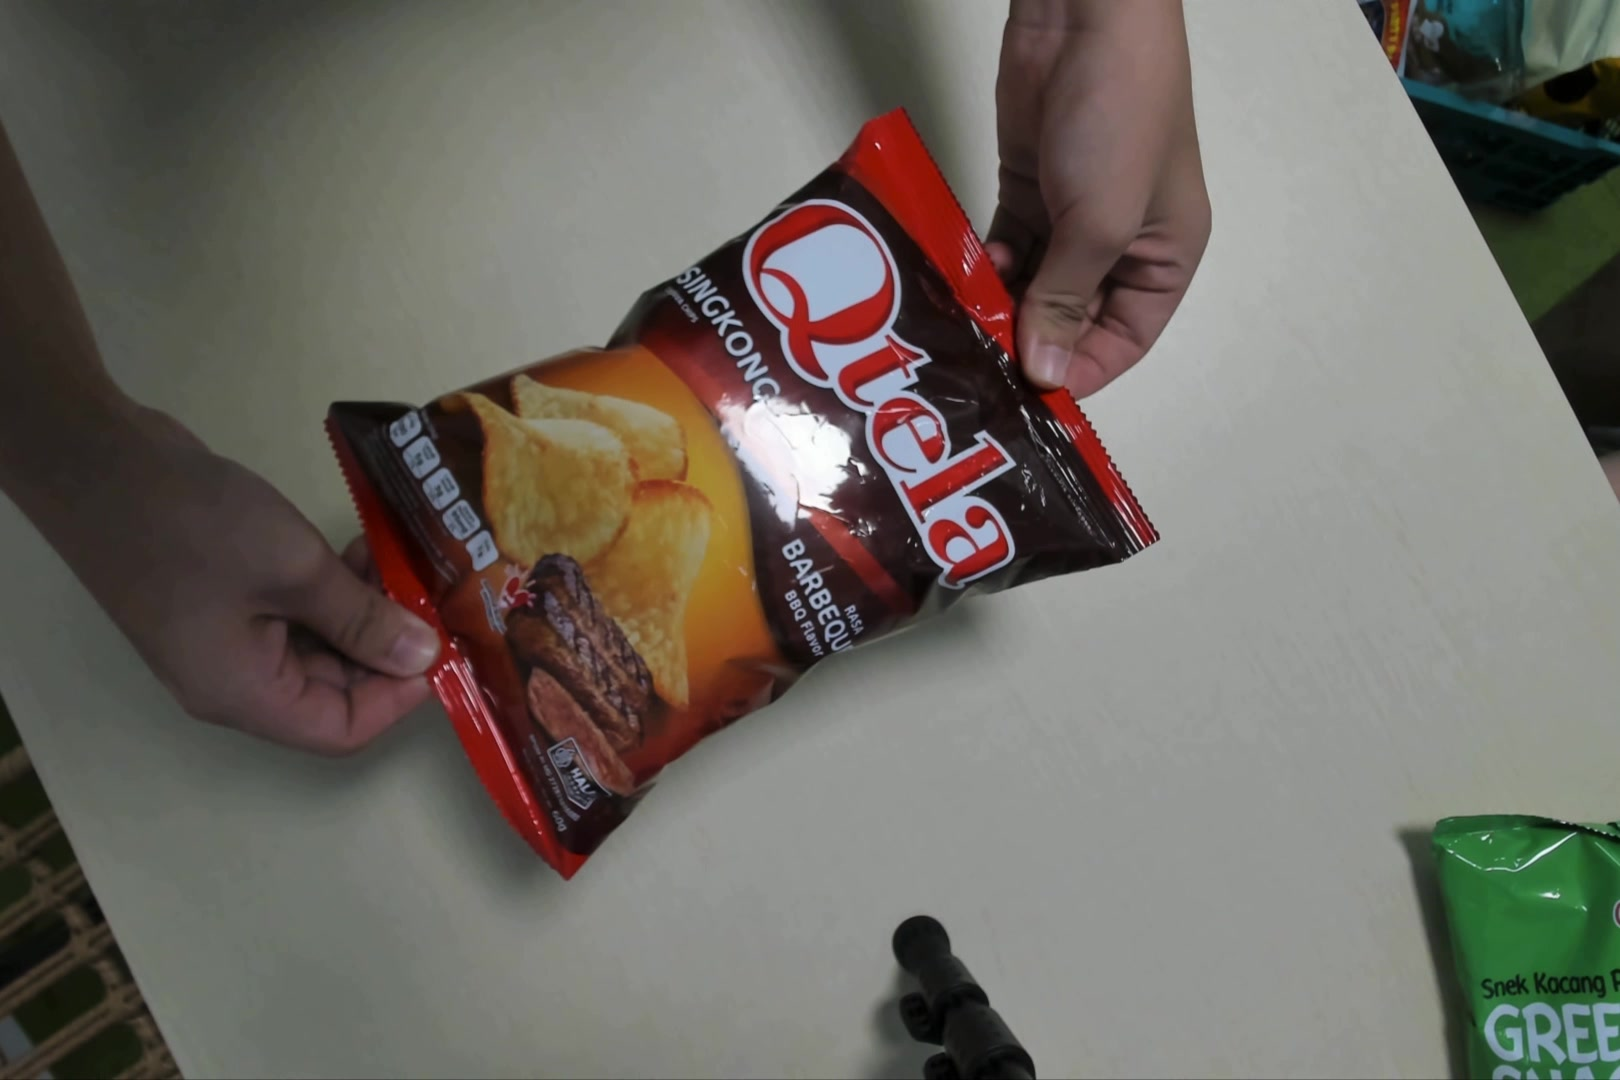PotatoChipsKeropok_0-99g_Halal_NonHealthy: (329, 102, 1156, 879)
